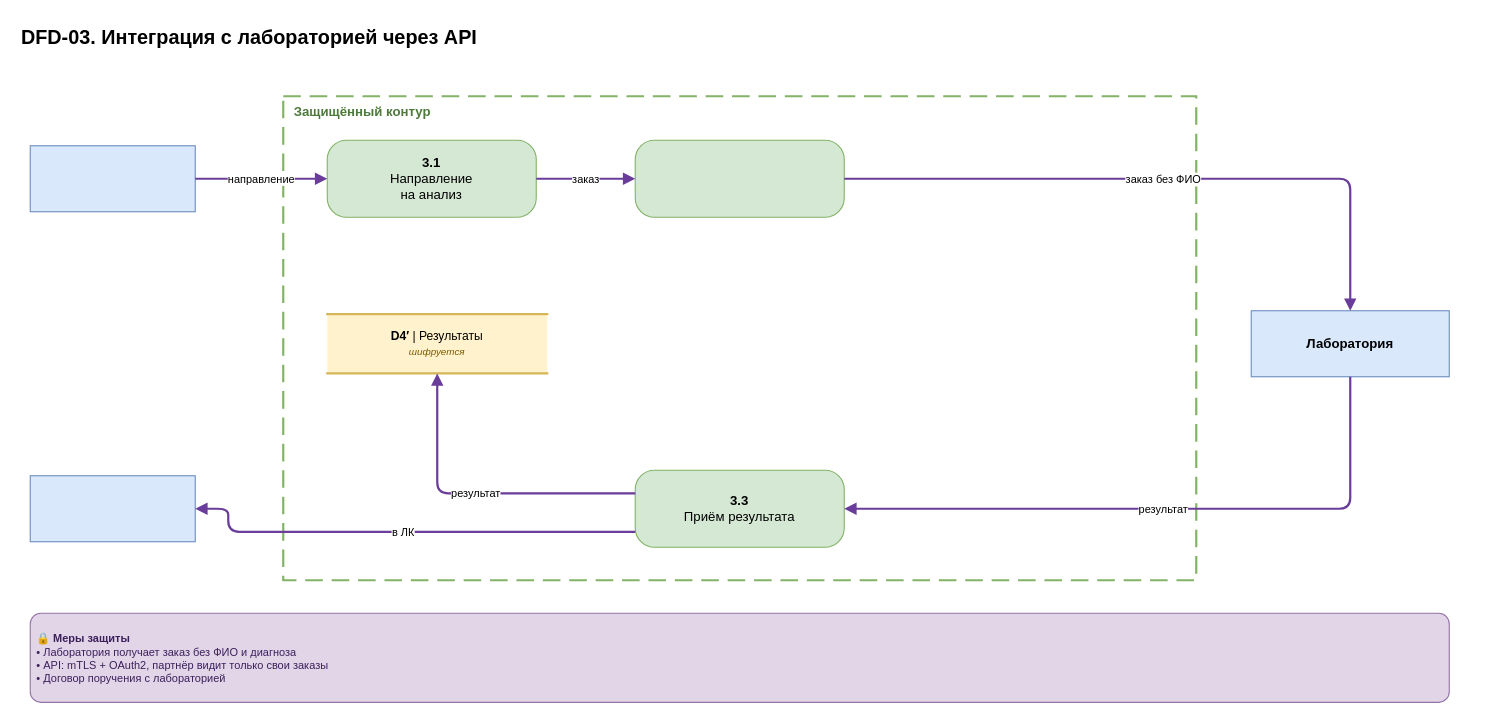
The diagram is 1489 pixels wide and 722 high, and some of its shapes have lost their labels. The centre of each missing label's shape, as x and y in pixels:
"3.2 Псевдонимизация заказа" goes at (x=739, y=178).
"Медицинский специалист" goes at (x=112, y=178).
"Пациент" goes at (x=112, y=508).
